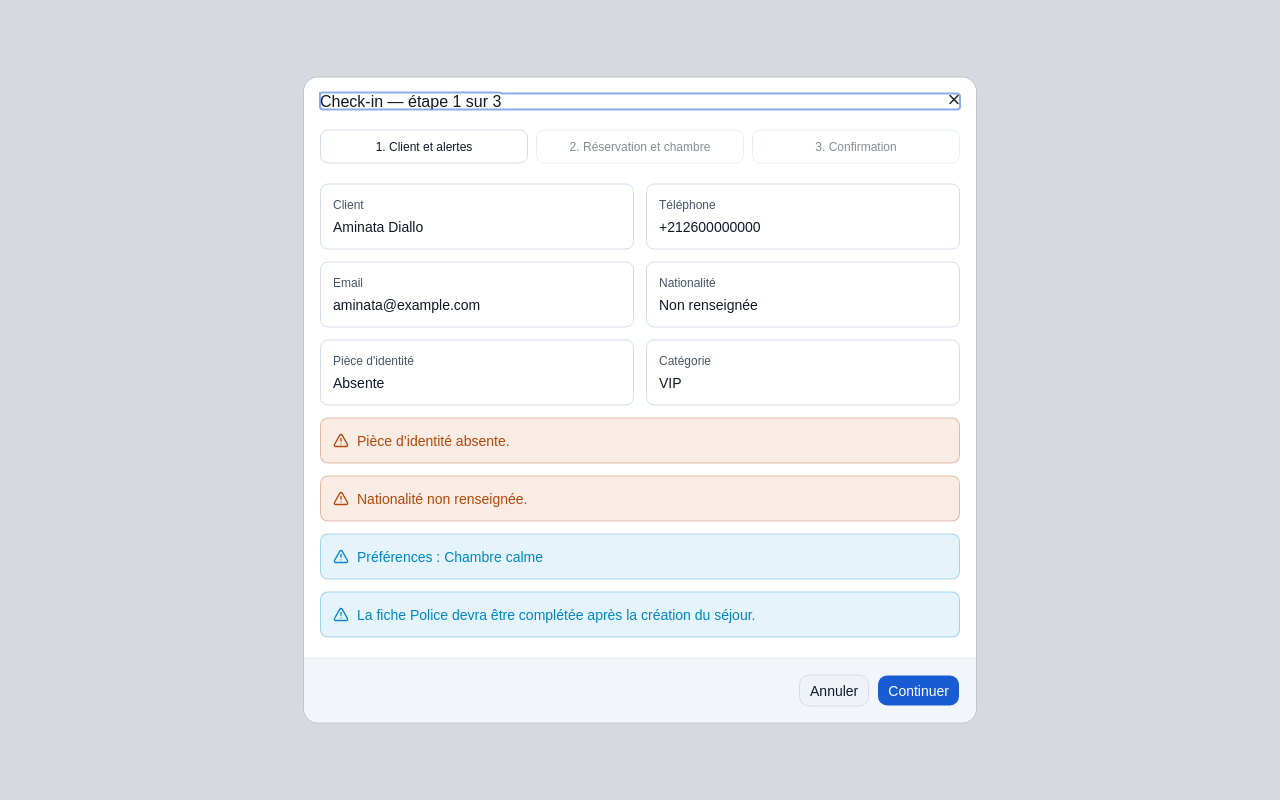
it: ReservationCheckinDialog › n'appelle pas l'API des acomptes sans payments:read
This screenshot has width=1280, height=800.
Click the button "Continuer".
click(919, 690)  # box [877, 674, 960, 706]
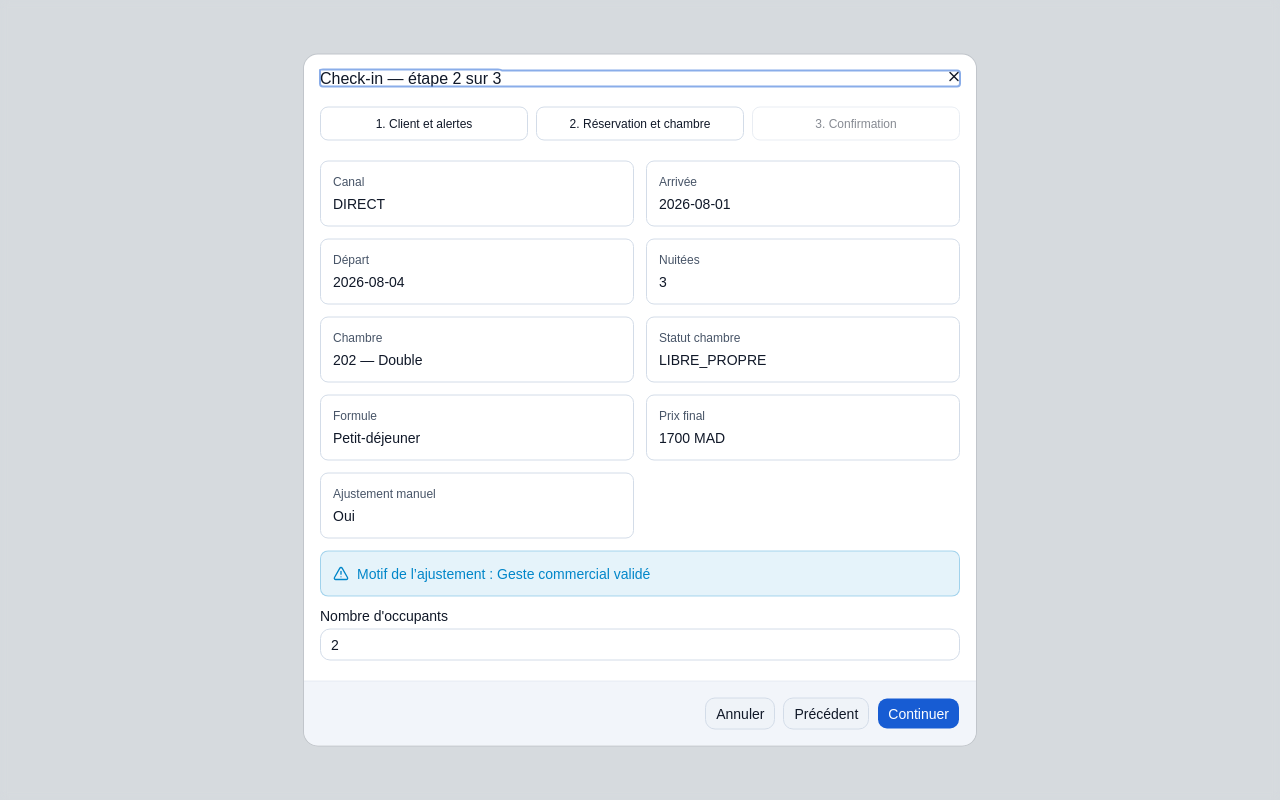
Click the button "Continuer".
click(919, 714)  # box [877, 698, 960, 730]
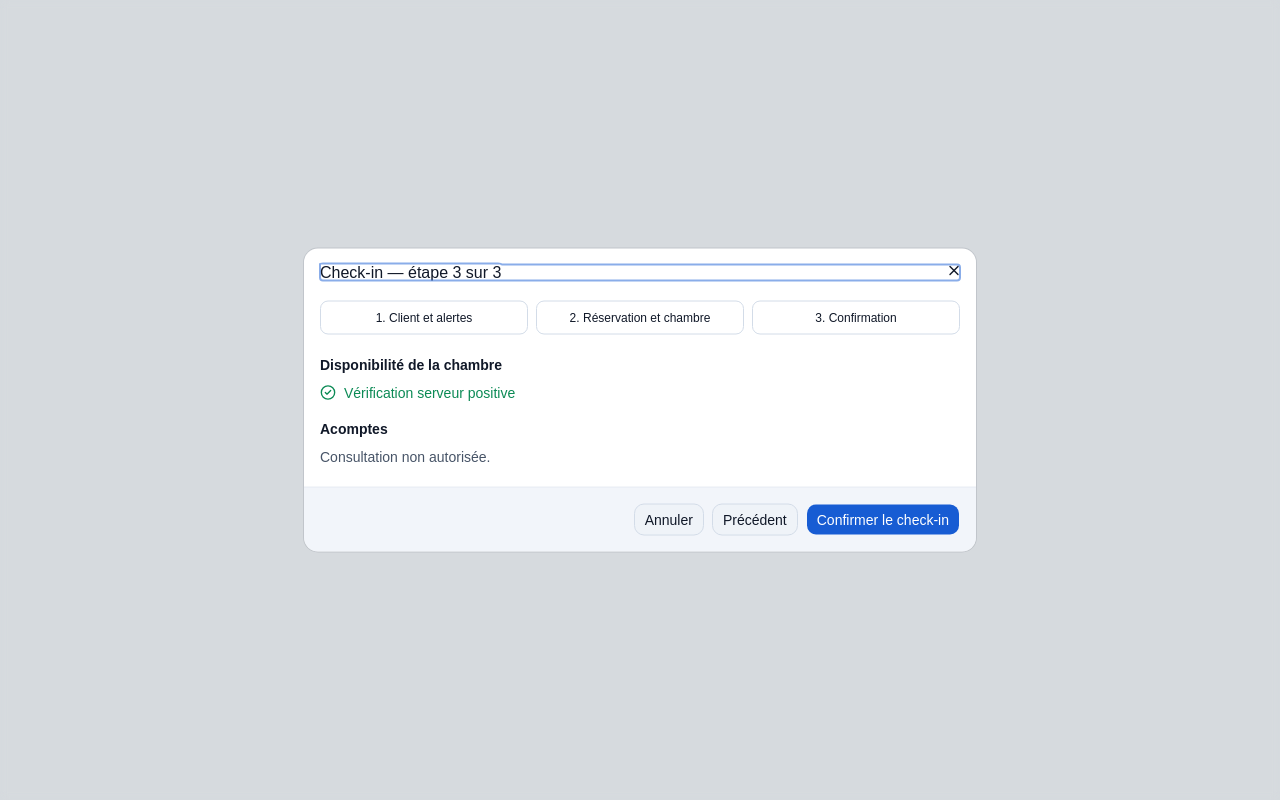
Result: the text "Consultation non autorisée." is shown at [320, 448, 490, 464]
